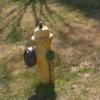Hydrant: (20, 15, 62, 93)
